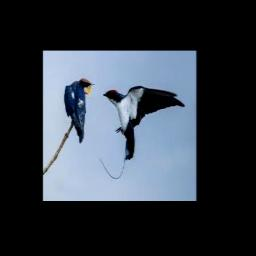Swallow: (103, 85, 184, 160), (64, 78, 94, 143)
